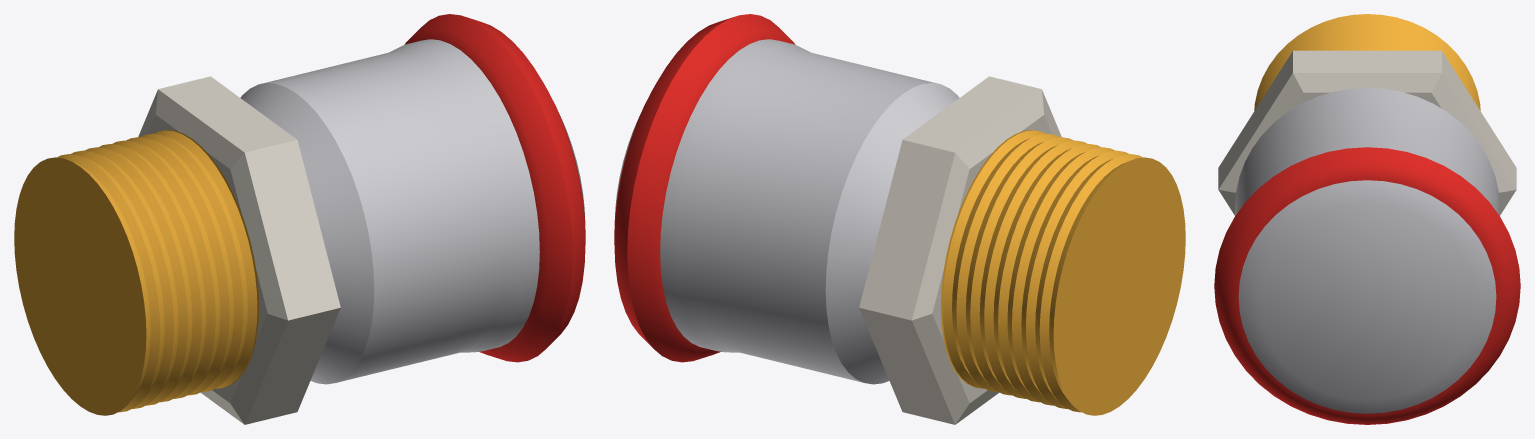
Rendered from fitting_adp_22x34_M_r.glb.
The picture shows the model from 3 angles, left to right: view 1: azimuth 30°, elevation 25°; view 2: azimuth 150°, elevation 25°; view 3: azimuth 270°, elevation 25°; orthographic projection. The views are drawn at different scales.
Visible parts, largest first — view 1: раструб, резьба НР, шестигранник переходника, кольцо пресс; view 2: раструб, резьба НР, шестигранник переходника, кольцо пресс; view 3: раструб, кольцо пресс, шестигранник переходника, резьба НР.
Part boxes in pixels (x1,y1,x2,y2): раструб: [240, 39, 584, 384]; резьба НР: [14, 130, 258, 415]; шестигранник переходника: [138, 76, 340, 424]; кольцо пресс: [404, 14, 585, 362]; раструб: [615, 39, 959, 384]; резьба НР: [941, 130, 1185, 415]; шестигранник переходника: [859, 76, 1061, 424]; кольцо пресс: [614, 14, 795, 362]; раструб: [1235, 87, 1499, 413]; кольцо пресс: [1214, 147, 1520, 424]; шестигранник переходника: [1218, 50, 1516, 215]; резьба НР: [1254, 14, 1480, 110].
Bounding box in the file's own units: 0.051 × 0.0356 × 0.0356.
